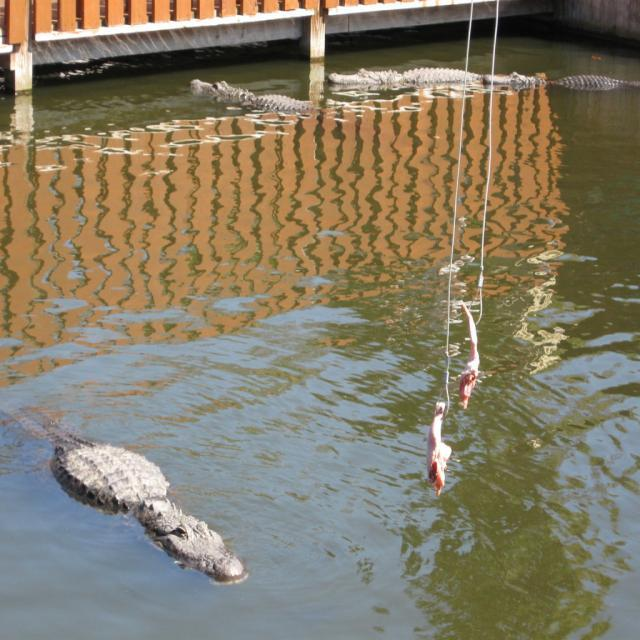crocodile: (0, 395, 280, 616)
